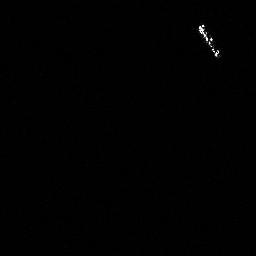ship: (197, 24, 219, 56)
